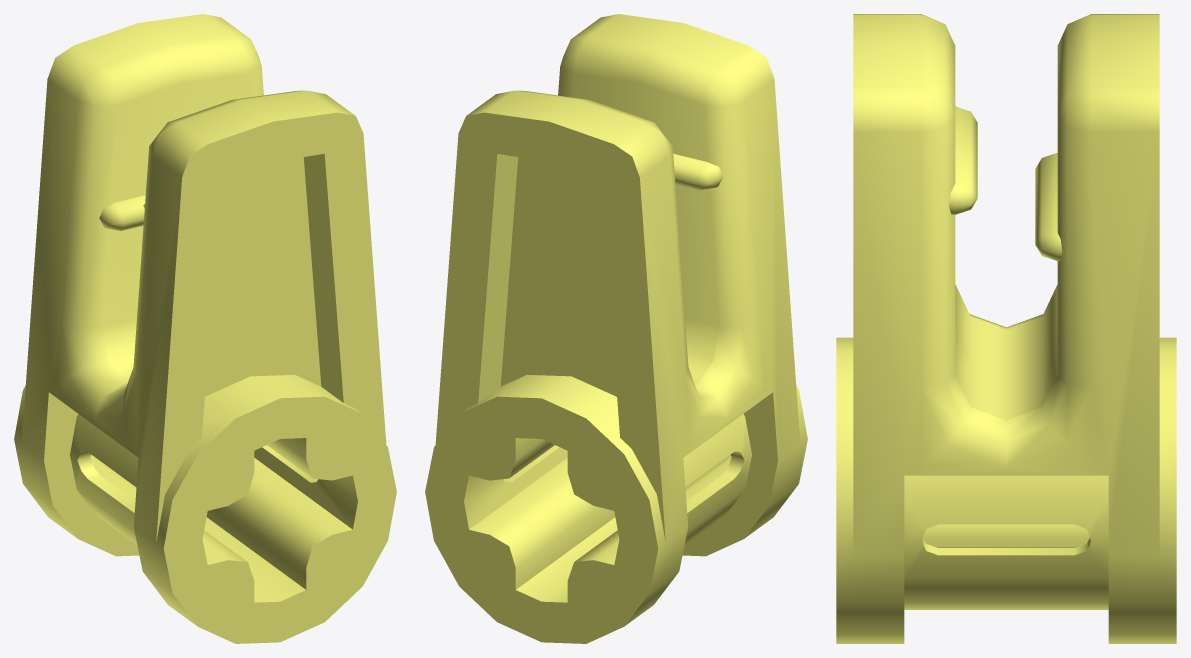
The picture shows the model from 3 angles, left to right: view 1: azimuth 30°, elevation 25°; view 2: azimuth 150°, elevation 25°; view 3: azimuth 270°, elevation 25°; orthographic projection. The views are drawn at different scales.
Parts seen in each view (by area): view 1: 49283.dat; view 2: 49283.dat; view 3: 49283.dat.
Part boxes in pixels (left/top/right/bottom): 49283.dat: left=14, top=14, right=396, bottom=643; 49283.dat: left=425, top=14, right=807, bottom=643; 49283.dat: left=836, top=14, right=1176, bottom=643.
Size of the model in its own units: 0.0072 by 0.0152 by 0.008.
